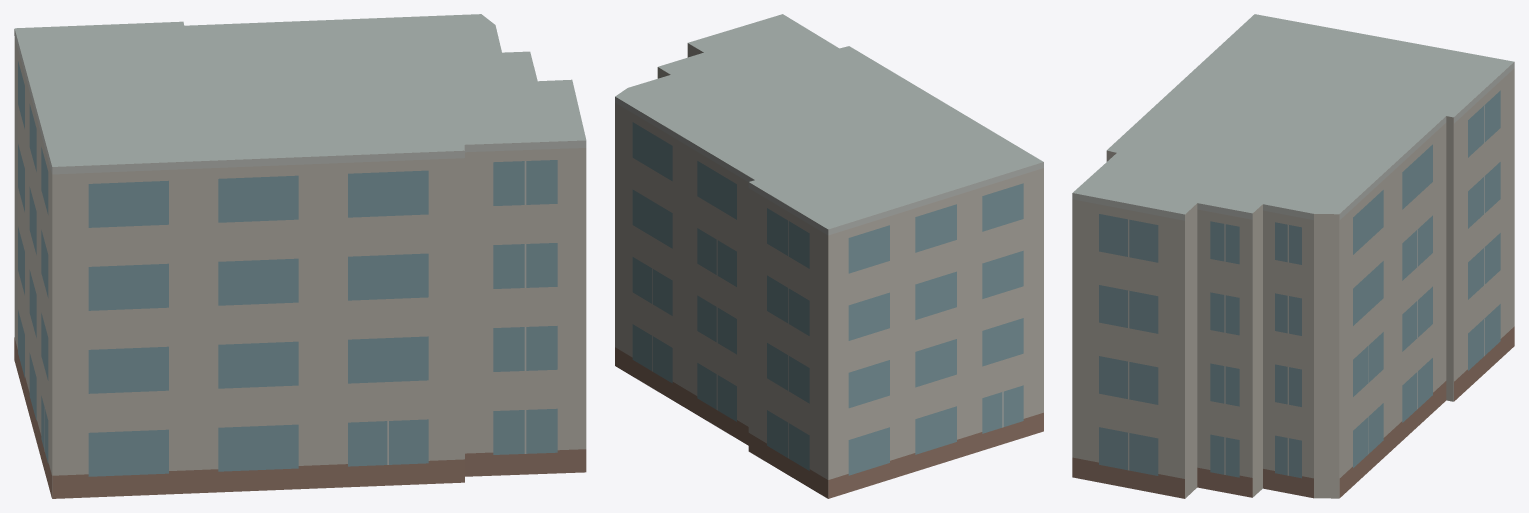
File: survey-upis-32671565.glb
The picture shows the model from 3 angles, left to right: view 1: azimuth 30°, elevation 25°; view 2: azimuth 150°, elevation 25°; view 3: azimuth 270°, elevation 25°; orthographic projection. The views are drawn at different scales.
Visible parts, largest first — view 1: survey-upis-32671565.tmp; view 2: survey-upis-32671565.tmp; view 3: survey-upis-32671565.tmp.
Boxes of the visible parts, x1,y1,x2,y2 form: survey-upis-32671565.tmp: [14, 14, 586, 498]; survey-upis-32671565.tmp: [615, 14, 1043, 498]; survey-upis-32671565.tmp: [1072, 14, 1514, 498].
Bounding box in the file's own units: 16.49 × 10.9 × 15.37.
